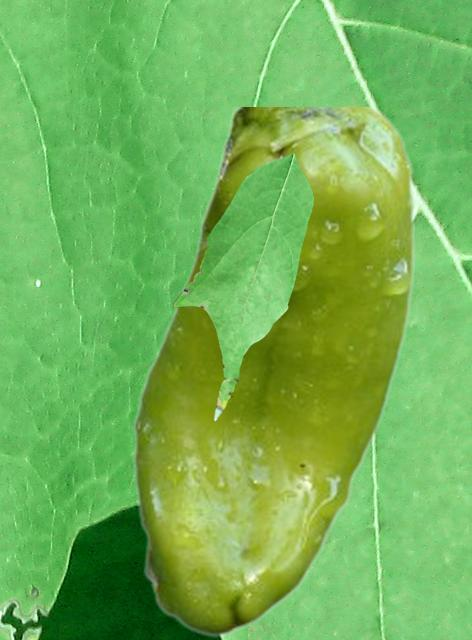green_chili: (132, 107, 413, 636)
